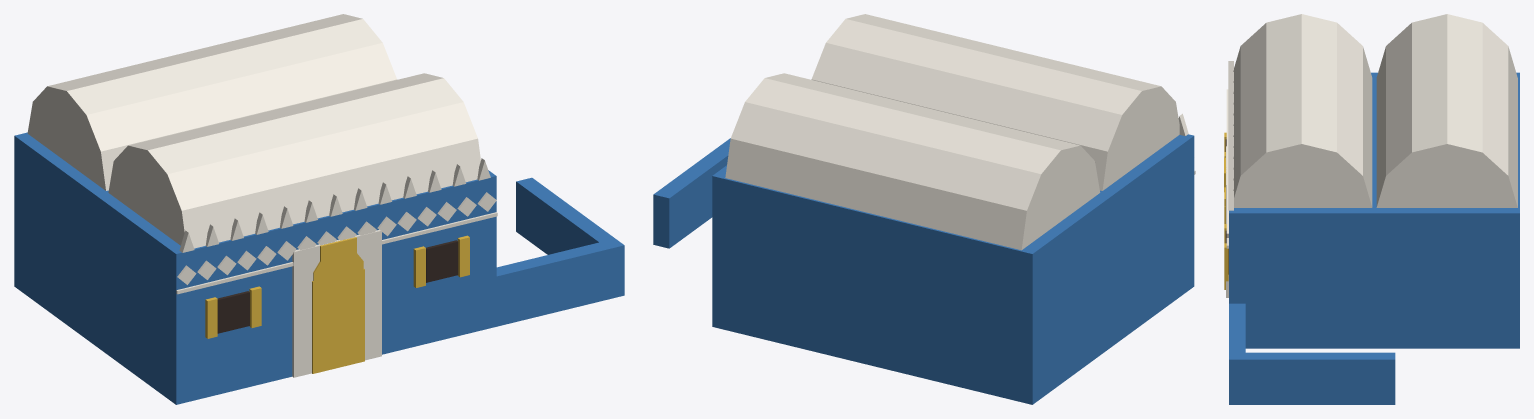
Rendered from hus_nubisk_1.glb.
3 views of the same model, side by side, from view 1: azimuth 30°, elevation 25°; view 2: azimuth 150°, elevation 25°; view 3: azimuth 270°, elevation 25° (orthographic). The views are drawn at different scales.
Visible parts, largest first — view 1: hus_nubisk_1; view 2: hus_nubisk_1; view 3: hus_nubisk_1.
Part boxes in pixels (x1,y1,x2,y2): hus_nubisk_1: (14, 14, 624, 404); hus_nubisk_1: (653, 14, 1195, 404); hus_nubisk_1: (1224, 14, 1519, 404).
Bounding box in the file's own units: 11.2 × 5.3 × 7.12.
